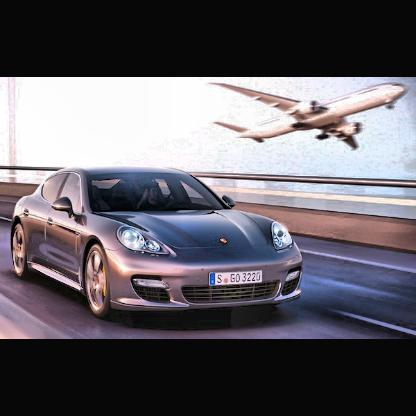Porsche Panamera Sedan 2012: (11, 166, 305, 322)
